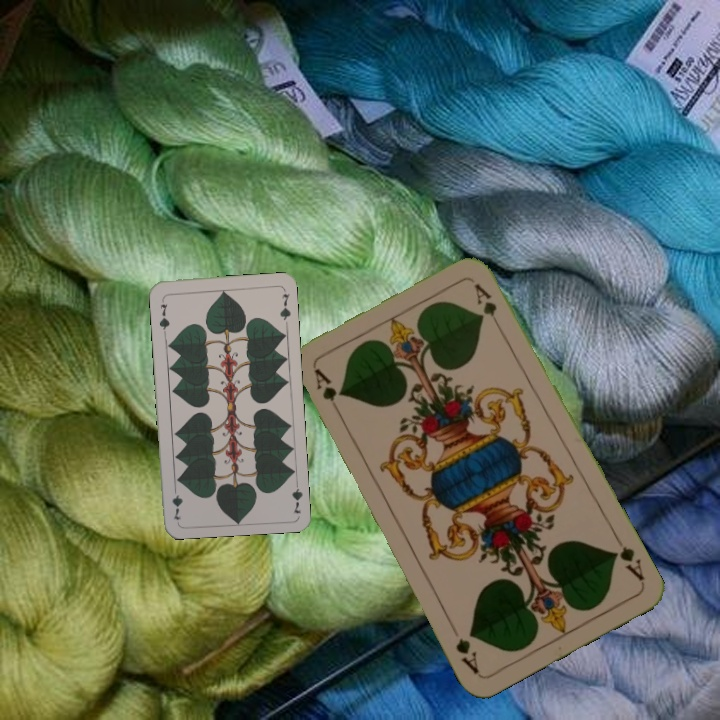G7: (288, 475, 305, 516), (155, 300, 172, 335)
GA: (608, 532, 647, 584), (310, 364, 345, 419)
